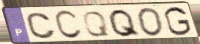C: (53, 9, 84, 41), (26, 12, 58, 40)
G: (163, 6, 193, 37)
O: (136, 7, 166, 38)
Q: (107, 8, 143, 39), (82, 10, 112, 38)
